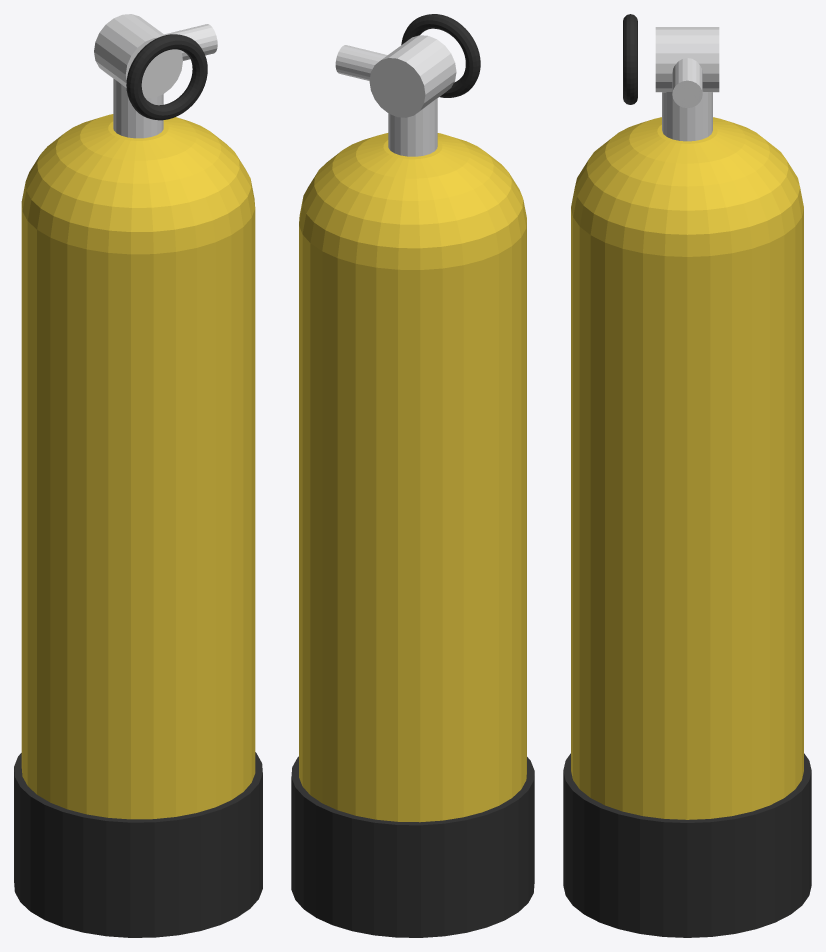
The model's file is dive_tank.glb.
3 renders of one model, left to right at view 1: azimuth 30°, elevation 25°; view 2: azimuth 150°, elevation 25°; view 3: azimuth 270°, elevation 25°, orthographic. The views are drawn at different scales.
Visible parts, largest first — view 1: dive_tank; view 2: dive_tank; view 3: dive_tank.
Boxes of the visible parts, box(x1,y1,x2,y2) form: dive_tank: box(14, 14, 262, 937); dive_tank: box(291, 14, 534, 937); dive_tank: box(563, 14, 811, 937).
Bounding box in the file's own units: 0.196 × 0.755 × 0.196.
